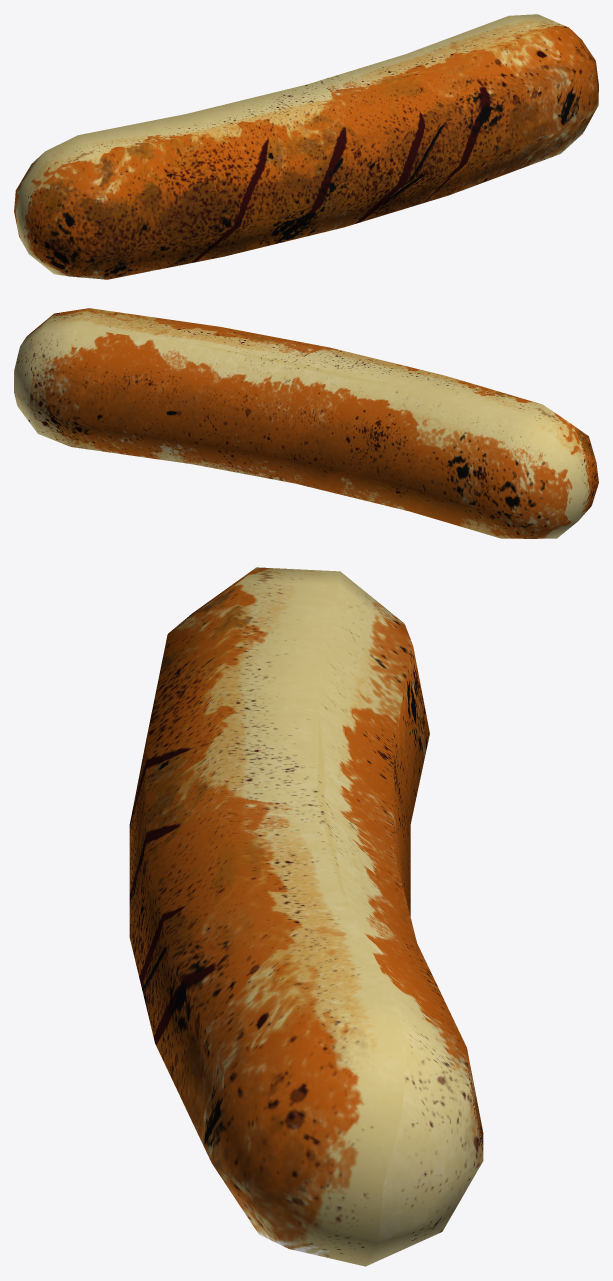
The model's file is sausage.fbx.
3 views of the same model, one above another, from view 1: azimuth 30°, elevation 25°; view 2: azimuth 150°, elevation 25°; view 3: azimuth 270°, elevation 25° (orthographic). The views are drawn at different scales.
Parts seen in each view (by area): view 1: Capsule; view 2: Capsule; view 3: Capsule.
Part boxes in pixels (x1,y1,x2,y2): Capsule: (14, 14, 598, 279); Capsule: (14, 308, 598, 538); Capsule: (129, 567, 483, 1266).
Bounding box in the file's own units: 447 × 96.98 × 124.
1 material, 1 textured.
